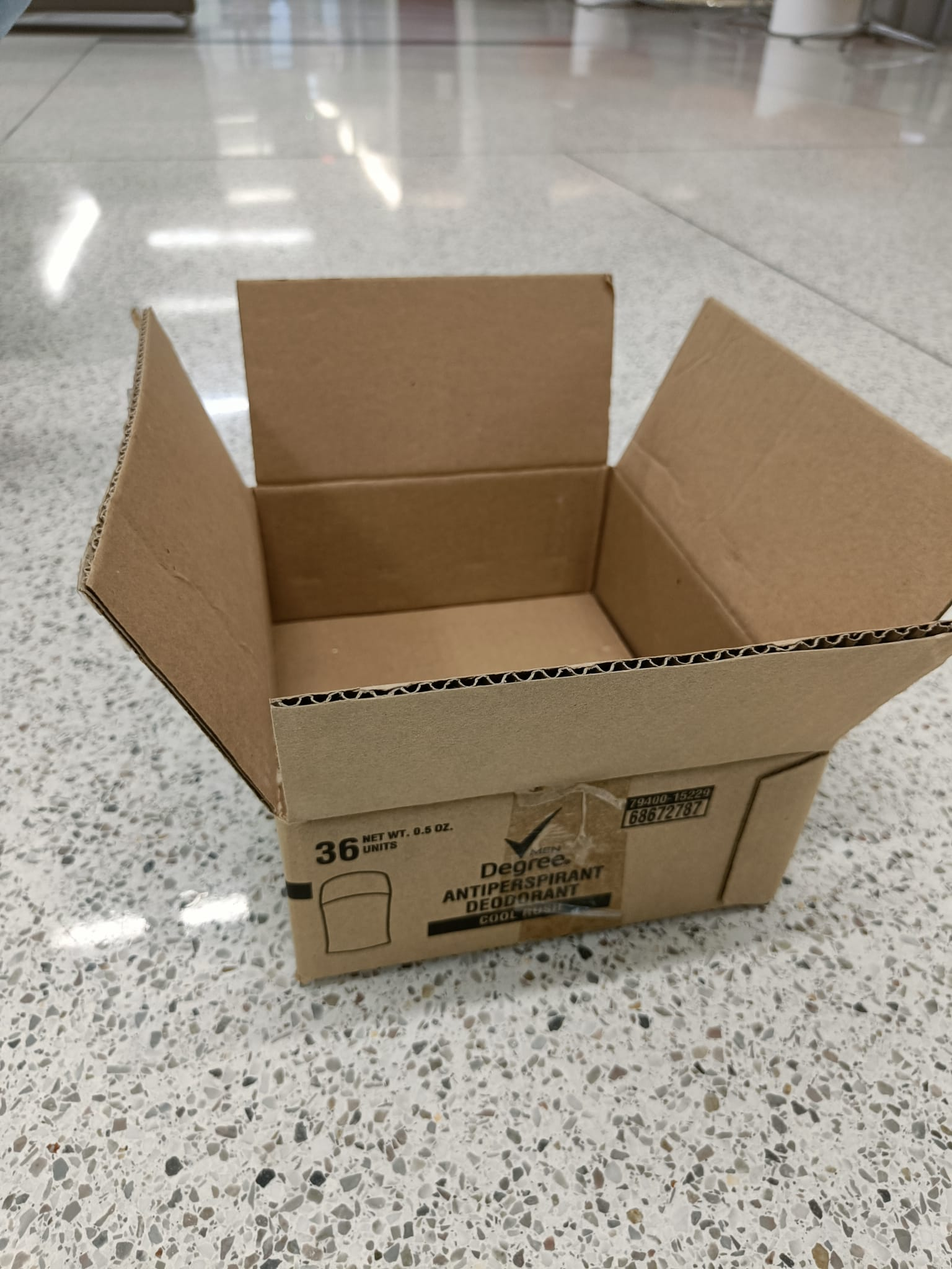box: (72, 269, 952, 989)
crushed: (76, 266, 952, 813)
